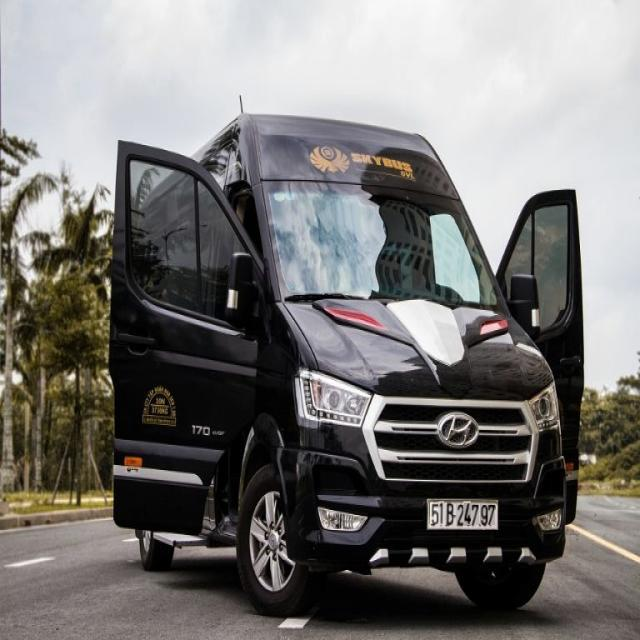car: (111, 43, 594, 628)
plate: (421, 494, 502, 534)
